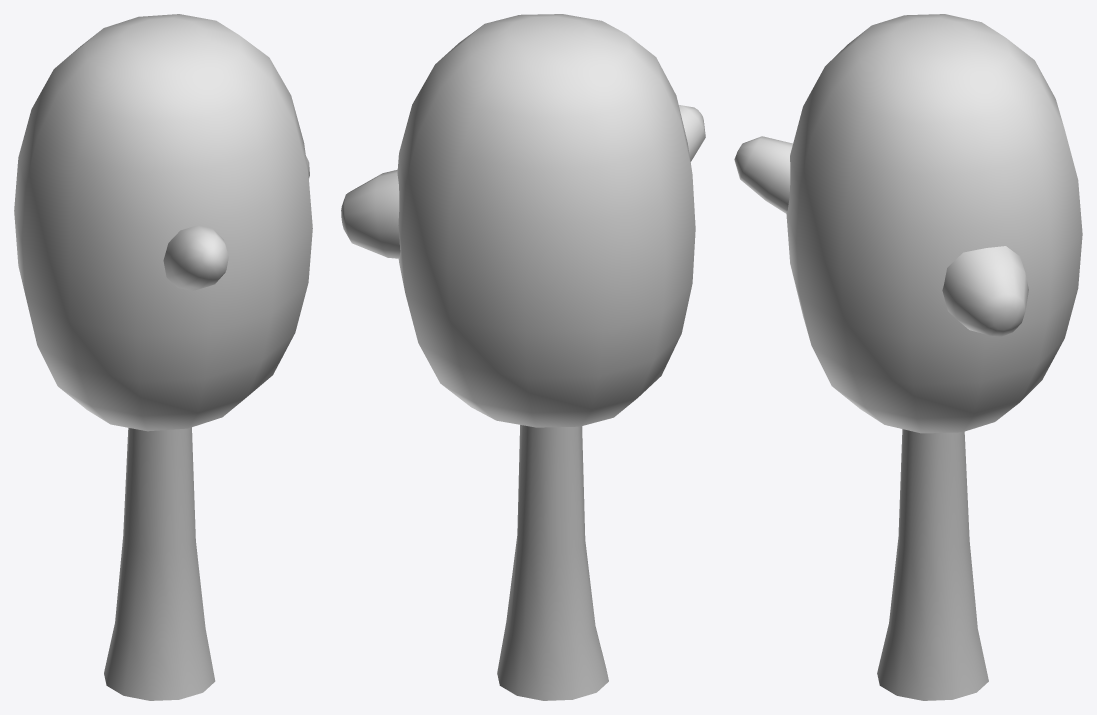
File: Tree_v3.fbx
3 views of the same model, side by side, from view 1: azimuth 30°, elevation 25°; view 2: azimuth 150°, elevation 25°; view 3: azimuth 270°, elevation 25° (orthographic).
Parts seen in each view (by area): view 1: Treev3.007; view 2: Treev3.007; view 3: Treev3.007.
Part boxes in pixels (bbox=[...]): Treev3.007: bbox=[14, 14, 312, 700]; Treev3.007: bbox=[341, 14, 705, 700]; Treev3.007: bbox=[734, 14, 1082, 700].
Bounding box in the file's own units: 2.75 × 5.61 × 2.74.
